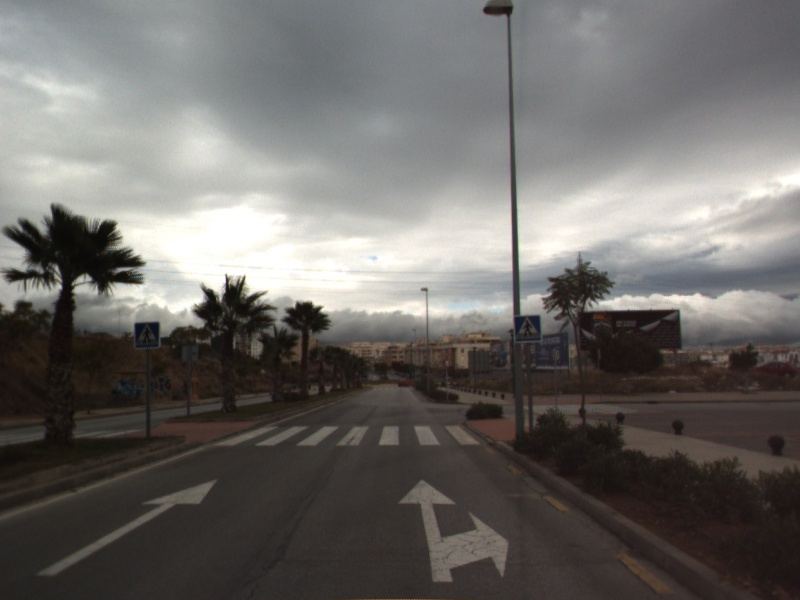STRAIGHT: (34, 477, 220, 578)
STRAIGHT_RIGHT: (395, 477, 511, 584)
